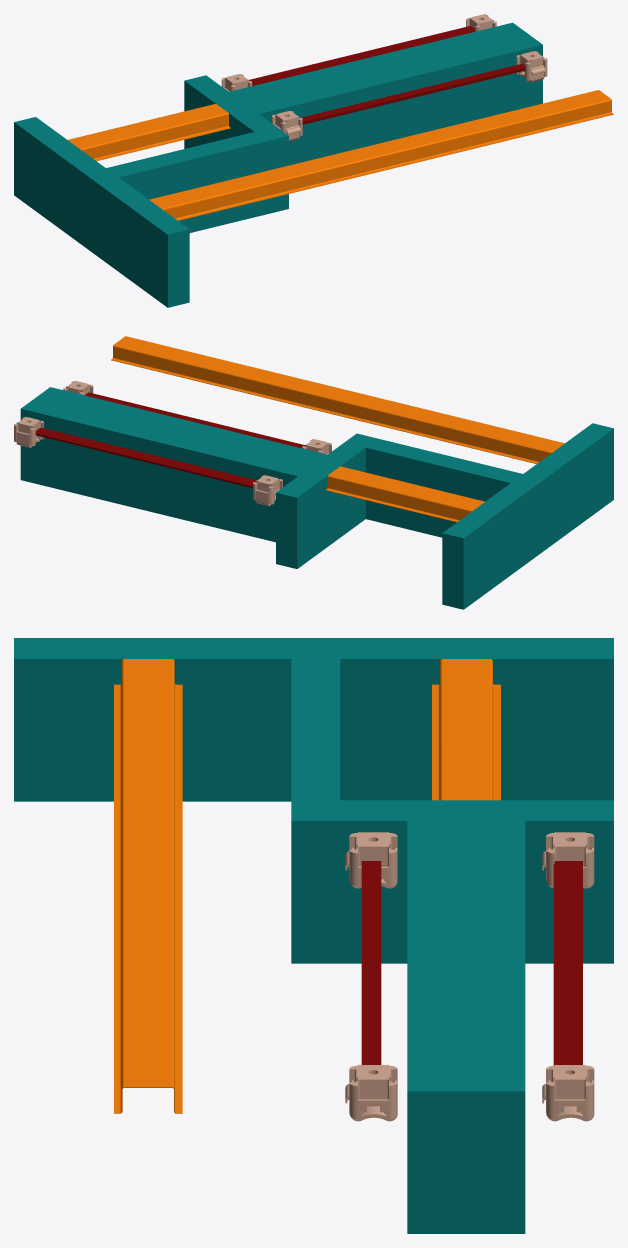
The model's file is MontagePlaat.gltf.
The picture shows the model from 3 angles, top to bottom: view 1: azimuth 30°, elevation 25°; view 2: azimuth 150°, elevation 25°; view 3: azimuth 270°, elevation 25°; orthographic projection. The views are drawn at different scales.
Visible parts, largest first — view 1: SHIELDING_DUCT, CABLE_DUCT_1, DIN-RAIL_1, CABLE_DUCT_2, DIN-RAIL_2, CABLE_DUCT_3, EMC_RAIL_MIDDLE, WE_RAIL_MIDDLE, EMC_RAIL_RIGHT, EMC_RAIL_LEFT, WE_RAIL_LEFT; view 2: SHIELDING_DUCT, CABLE_DUCT_1, DIN-RAIL_1, CABLE_DUCT_2, CABLE_DUCT_3, DIN-RAIL_2, WE_RAIL_MIDDLE, EMC_RAIL_MIDDLE, WE_RAIL_RIGHT, WE_RAIL_LEFT; view 3: CABLE_DUCT_1, SHIELDING_DUCT, DIN-RAIL_1, CABLE_DUCT_3, CABLE_DUCT_2, DIN-RAIL_2, WE_RAIL_MIDDLE, EMC_RAIL_MIDDLE, WE_RAIL_RIGHT, EMC_RAIL_RIGHT, EMC_RAIL_LEFT, WE_RAIL_LEFT.
Boxes of the visible parts, box(x1,y1,x2,y2) form: SHIELDING_DUCT: box(229, 22, 542, 165); CABLE_DUCT_1: box(14, 117, 189, 307); DIN-RAIL_1: box(149, 90, 613, 220); CABLE_DUCT_2: box(106, 126, 288, 232); DIN-RAIL_2: box(68, 104, 230, 161); CABLE_DUCT_3: box(184, 75, 275, 148); EMC_RAIL_MIDDLE: box(300, 63, 525, 124); WE_RAIL_MIDDLE: box(249, 26, 474, 85); EMC_RAIL_RIGHT: box(516, 51, 547, 82); EMC_RAIL_LEFT: box(272, 111, 302, 141); WE_RAIL_LEFT: box(221, 74, 252, 91); SHIELDING_DUCT: box(20, 387, 327, 542); CABLE_DUCT_1: box(442, 423, 613, 609); DIN-RAIL_1: box(111, 336, 564, 463); CABLE_DUCT_2: box(345, 433, 522, 537); CABLE_DUCT_3: box(276, 442, 365, 568); DIN-RAIL_2: box(325, 466, 484, 522); WE_RAIL_MIDDLE: box(35, 428, 256, 488); EMC_RAIL_MIDDLE: box(85, 392, 304, 448); WE_RAIL_RIGHT: box(14, 417, 43, 447); WE_RAIL_LEFT: box(253, 475, 282, 505); CABLE_DUCT_1: box(14, 638, 613, 801); SHIELDING_DUCT: box(407, 821, 525, 1233); DIN-RAIL_1: box(114, 659, 182, 1113); CABLE_DUCT_3: box(340, 800, 613, 963); CABLE_DUCT_2: box(291, 659, 340, 963); DIN-RAIL_2: box(432, 659, 500, 800); WE_RAIL_MIDDLE: box(553, 861, 582, 1065); EMC_RAIL_MIDDLE: box(361, 861, 381, 1064); WE_RAIL_RIGHT: box(542, 1065, 594, 1121); EMC_RAIL_RIGHT: box(345, 1064, 397, 1121); EMC_RAIL_LEFT: box(345, 832, 397, 888); WE_RAIL_LEFT: box(542, 832, 594, 888).
Bounding box in the file's own units: 0.545 × 0.08 × 0.305.
